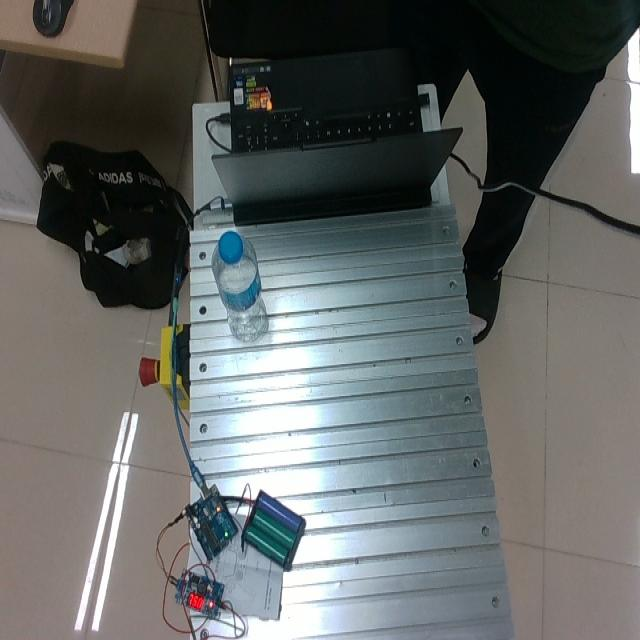lavie: (211, 230, 268, 342)
